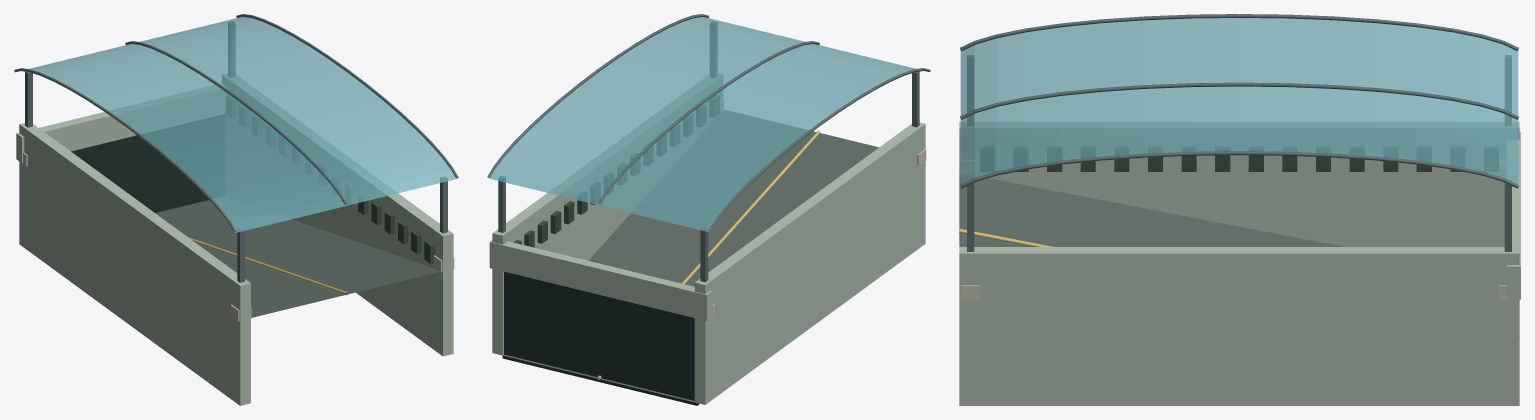
The model's file is ramp.glb.
3 views of the same model, side by side, from view 1: azimuth 30°, elevation 25°; view 2: azimuth 150°, elevation 25°; view 3: azimuth 270°, elevation 25° (orthographic). The views are drawn at different scales.
Parts seen in each view (by area): view 1: 청록 지붕 지하주차장 입구, korean-facade-parts-b4c5b6, korean-facade-parts-263936, korean-facade-parts-627475, korean-facade-parts-45554a, korean-facade-parts-d5be74; view 2: 청록 지붕 지하주차장 입구, korean-facade-parts-b4c5b6, korean-facade-parts-263936, korean-facade-parts-627475, korean-facade-parts-45554a, korean-facade-parts-d5be74; view 3: korean-facade-parts-b4c5b6, 청록 지붕 지하주차장 입구, korean-facade-parts-627475, korean-facade-parts-45554a, korean-facade-parts-cec9b9.
Boxes of the visible parts, bbox=[...] form: 청록 지붕 지하주차장 입구: bbox=[29, 17, 456, 317]; korean-facade-parts-b4c5b6: bbox=[16, 73, 453, 405]; korean-facade-parts-263936: bbox=[71, 114, 224, 212]; korean-facade-parts-627475: bbox=[14, 14, 458, 282]; korean-facade-parts-45554a: bbox=[226, 95, 434, 263]; korean-facade-parts-d5be74: bbox=[188, 237, 348, 295]; 청록 지붕 지하주차장 입구: bbox=[489, 17, 915, 401]; korean-facade-parts-b4c5b6: bbox=[489, 73, 925, 404]; korean-facade-parts-263936: bbox=[502, 271, 699, 405]; korean-facade-parts-627475: bbox=[487, 14, 930, 282]; korean-facade-parts-45554a: bbox=[513, 95, 719, 247]; korean-facade-parts-d5be74: bbox=[597, 130, 820, 379]; korean-facade-parts-b4c5b6: bbox=[959, 121, 1520, 405]; 청록 지붕 지하주차장 입구: bbox=[959, 18, 1518, 246]; korean-facade-parts-627475: bbox=[960, 14, 1518, 251]; korean-facade-parts-45554a: bbox=[980, 146, 1498, 171]; korean-facade-parts-cec9b9: bbox=[961, 160, 1517, 300].
Bounding box in the file's own units: 5.87 × 5.16 × 10.03.
